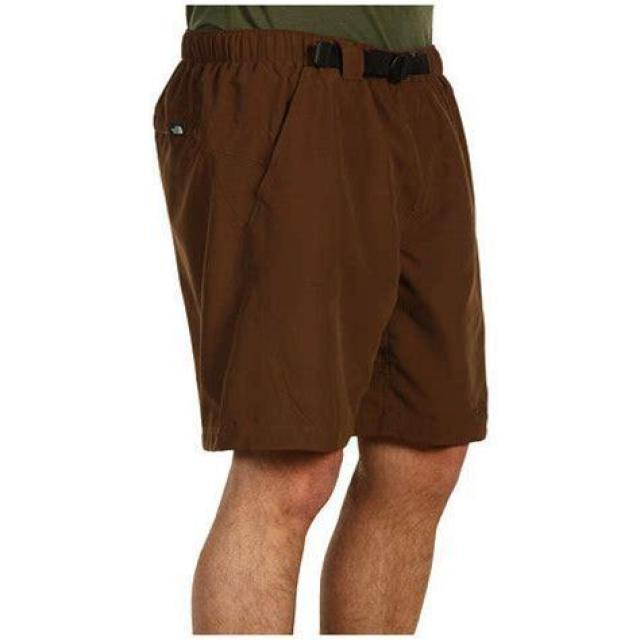short: (155, 30, 488, 453)
